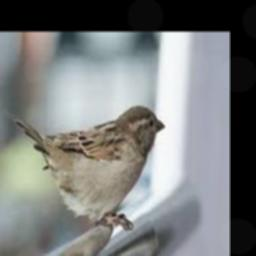Sparrow: (11, 106, 165, 230)
